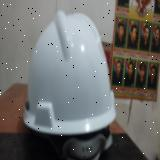Helmet: (23, 10, 117, 135)
